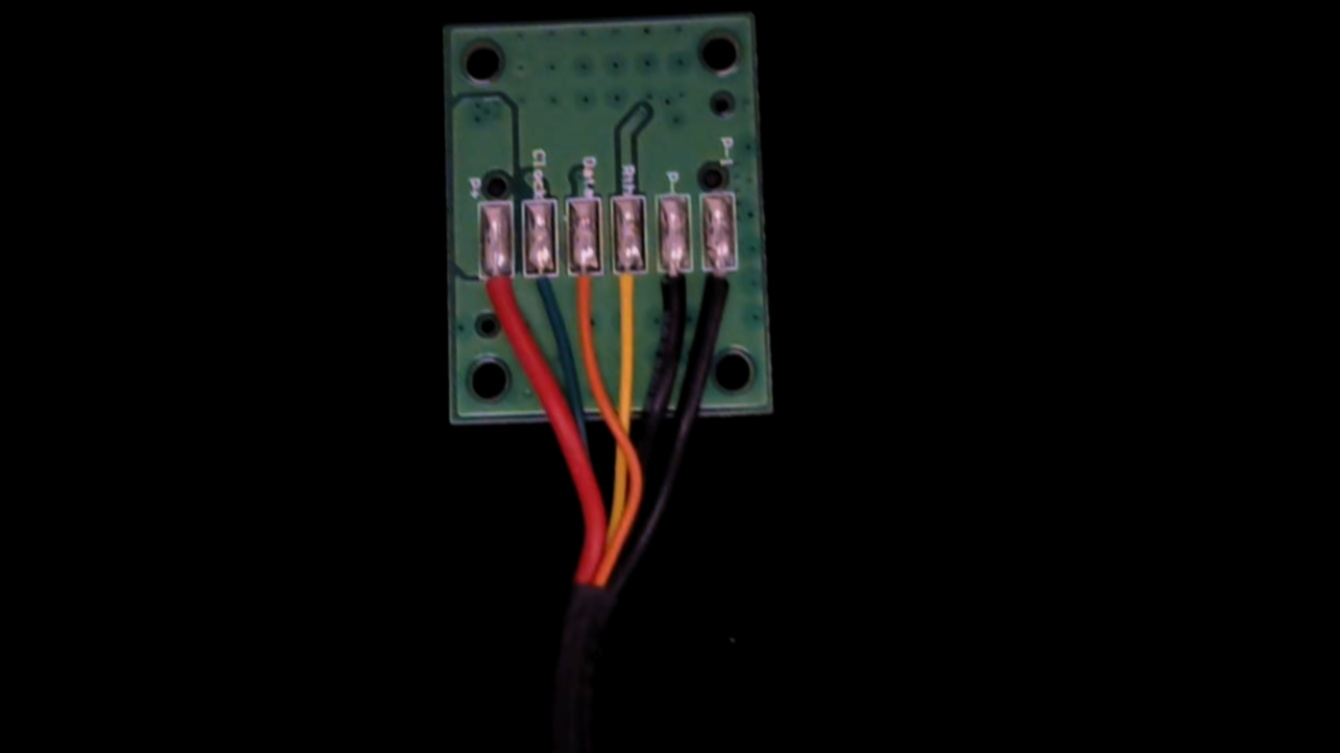Black: (656, 252, 691, 331)
Black1: (702, 252, 736, 331)
Green: (522, 250, 558, 330)
Orange: (568, 254, 602, 333)
Red: (479, 253, 512, 331)
Yellow: (614, 252, 645, 336)
